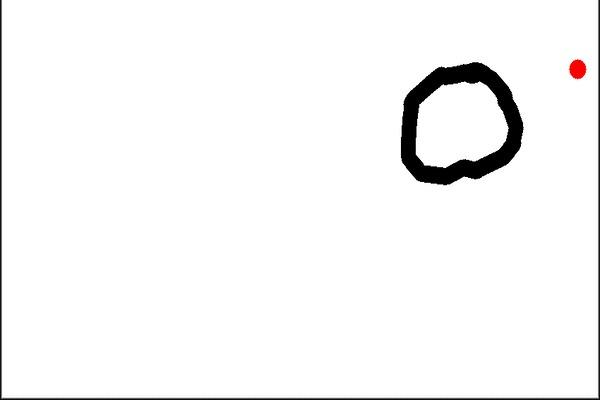O: (390, 54, 534, 192)
